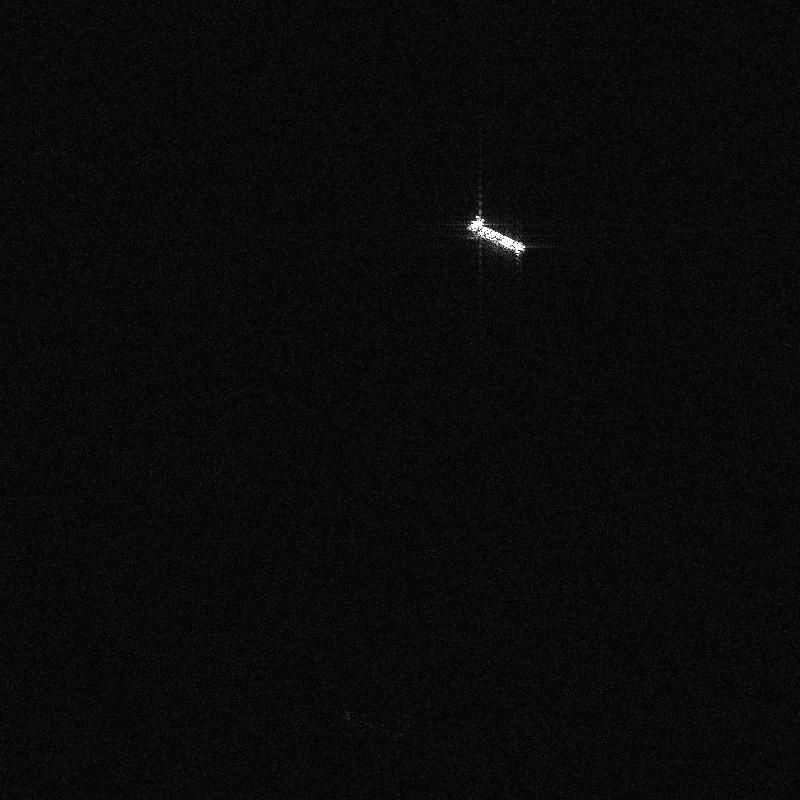ship: (467, 215, 525, 254)
